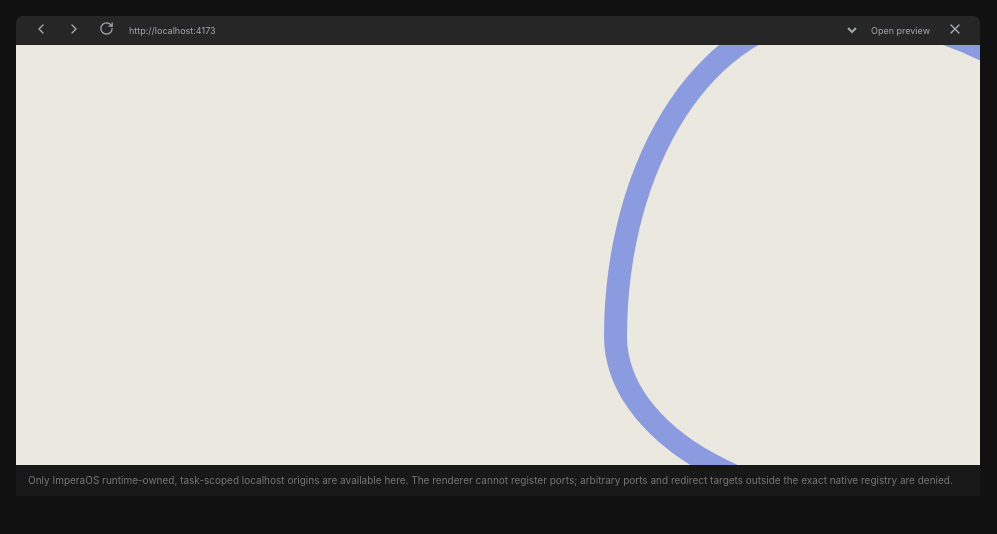
PreviewSurface › closes an already-open native session when the owning workspace tab unmounts
Click the button "Open preview" at {"x": 900, "y": 30}, box [865,19,936,42]
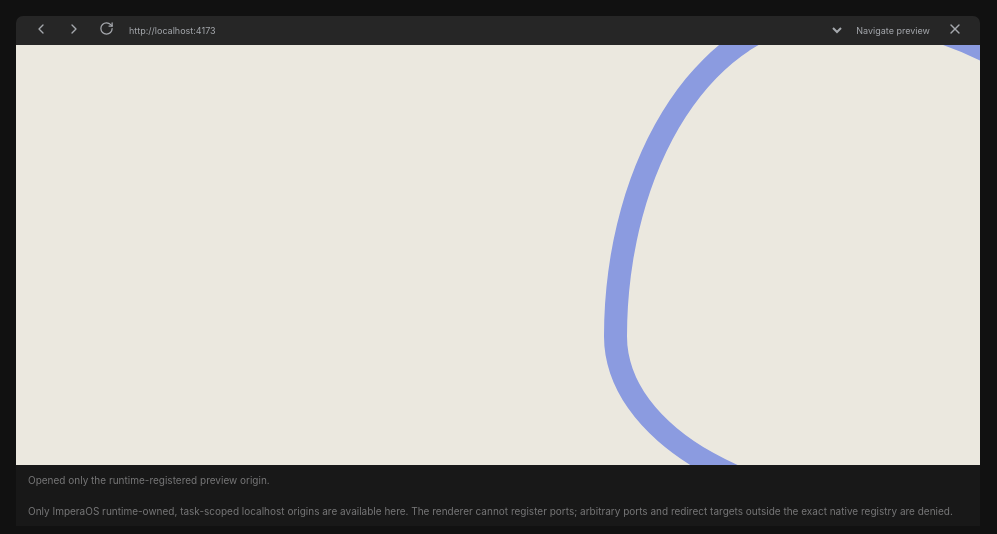
Now the text "Opened only the runtime-registered preview origin." is shown, box [16,465,980,496]
